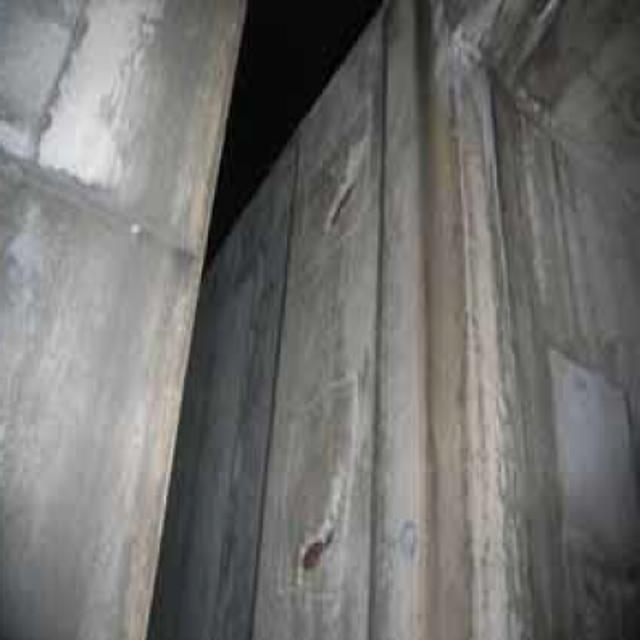spalling: (271, 476, 370, 587), (303, 113, 390, 238)
